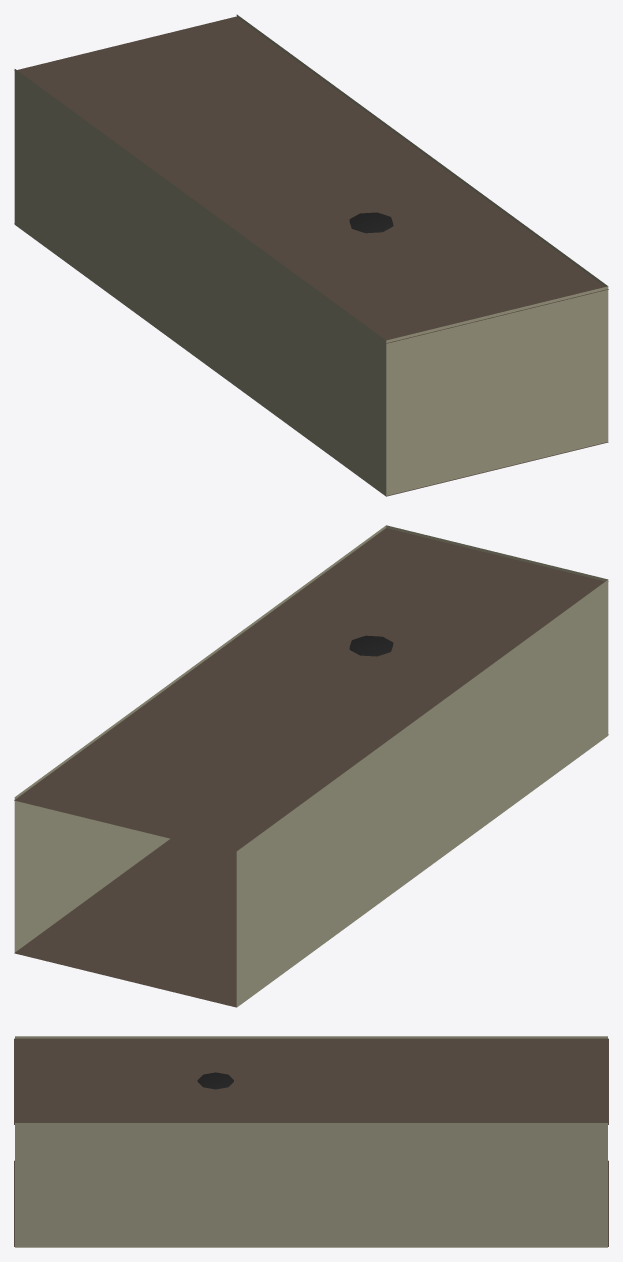
Rendered from glyph's room intro scene 1.fbx.
3 views of the same model, one above another, from view 1: azimuth 30°, elevation 25°; view 2: azimuth 150°, elevation 25°; view 3: azimuth 270°, elevation 25° (orthographic). The views are drawn at different scales.
Visible parts, largest first — view 1: wall, floor_ceiling, celing_light; view 2: floor_ceiling, wall, celing_light; view 3: wall, floor_ceiling, celing_light.
Boxes of the visible parts, <box> form: wall: <box>14,14,608,496</box>; floor_ceiling: <box>14,16,608,496</box>; celing_light: <box>349,212,393,233</box>; floor_ceiling: <box>14,528,608,1007</box>; wall: <box>14,525,608,1007</box>; celing_light: <box>349,635,393,656</box>; wall: <box>15,1036,607,1247</box>; floor_ceiling: <box>14,1038,608,1246</box>; celing_light: <box>197,1072,233,1089</box>.
Size of the model in its own units: 3 by 8.72 by 2.02.
